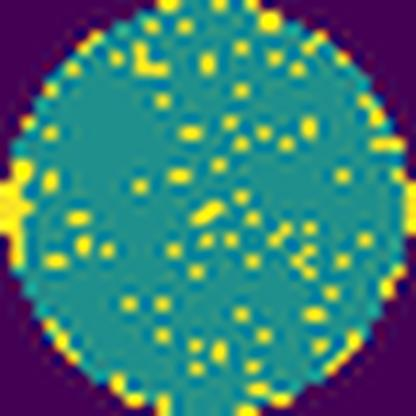Edge-Loc: (0, 159, 35, 273)
